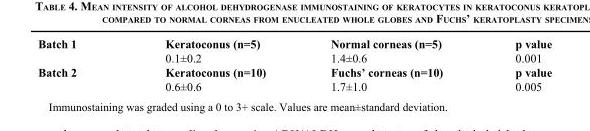table: (37, 36, 551, 92)
table column: (297, 36, 478, 92), (120, 36, 297, 92), (37, 36, 120, 92), (478, 36, 551, 92)
table column header: (37, 36, 551, 50)
table row: (37, 36, 551, 50), (37, 50, 551, 64), (37, 64, 551, 78), (37, 78, 551, 92)
table spanning cell: (37, 64, 120, 92)
